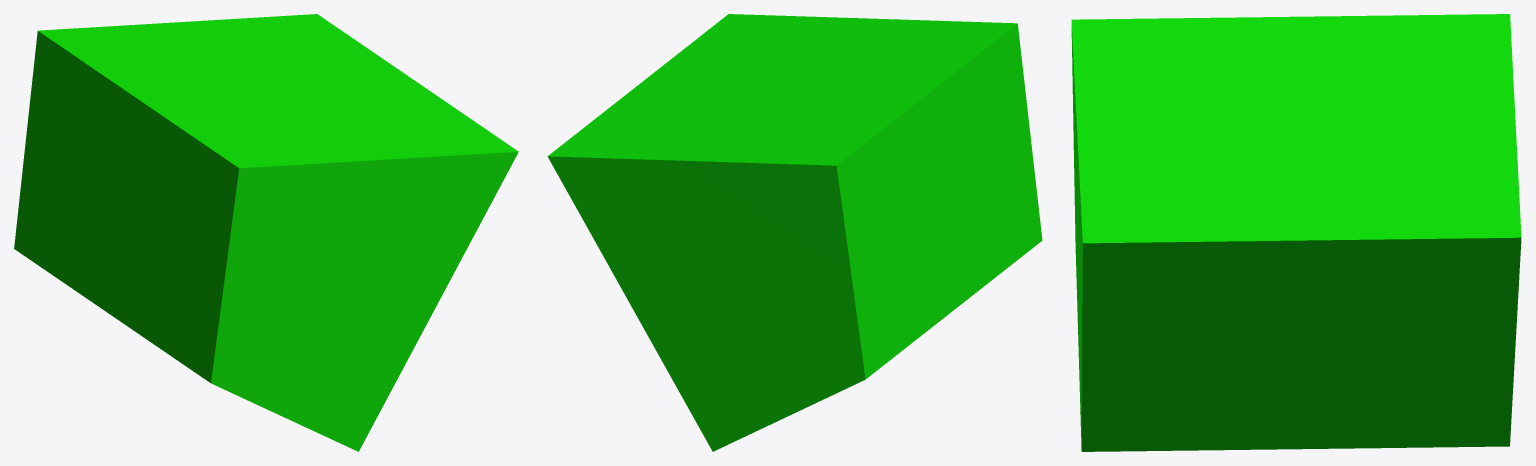
Rendered from sm_castle_029.fbx.
3 views of the same model, side by side, from view 1: azimuth 30°, elevation 25°; view 2: azimuth 150°, elevation 25°; view 3: azimuth 270°, elevation 25° (orthographic). The views are drawn at different scales.
Parts seen in each view (by area): view 1: sm_castle.029; view 2: sm_castle.029; view 3: sm_castle.029.
Part boxes in pixels (bbox=[...]): sm_castle.029: bbox=[14, 14, 518, 451]; sm_castle.029: bbox=[547, 14, 1042, 451]; sm_castle.029: bbox=[1071, 14, 1521, 451].
Bounding box in the file's own units: 289 × 273 × 306.
